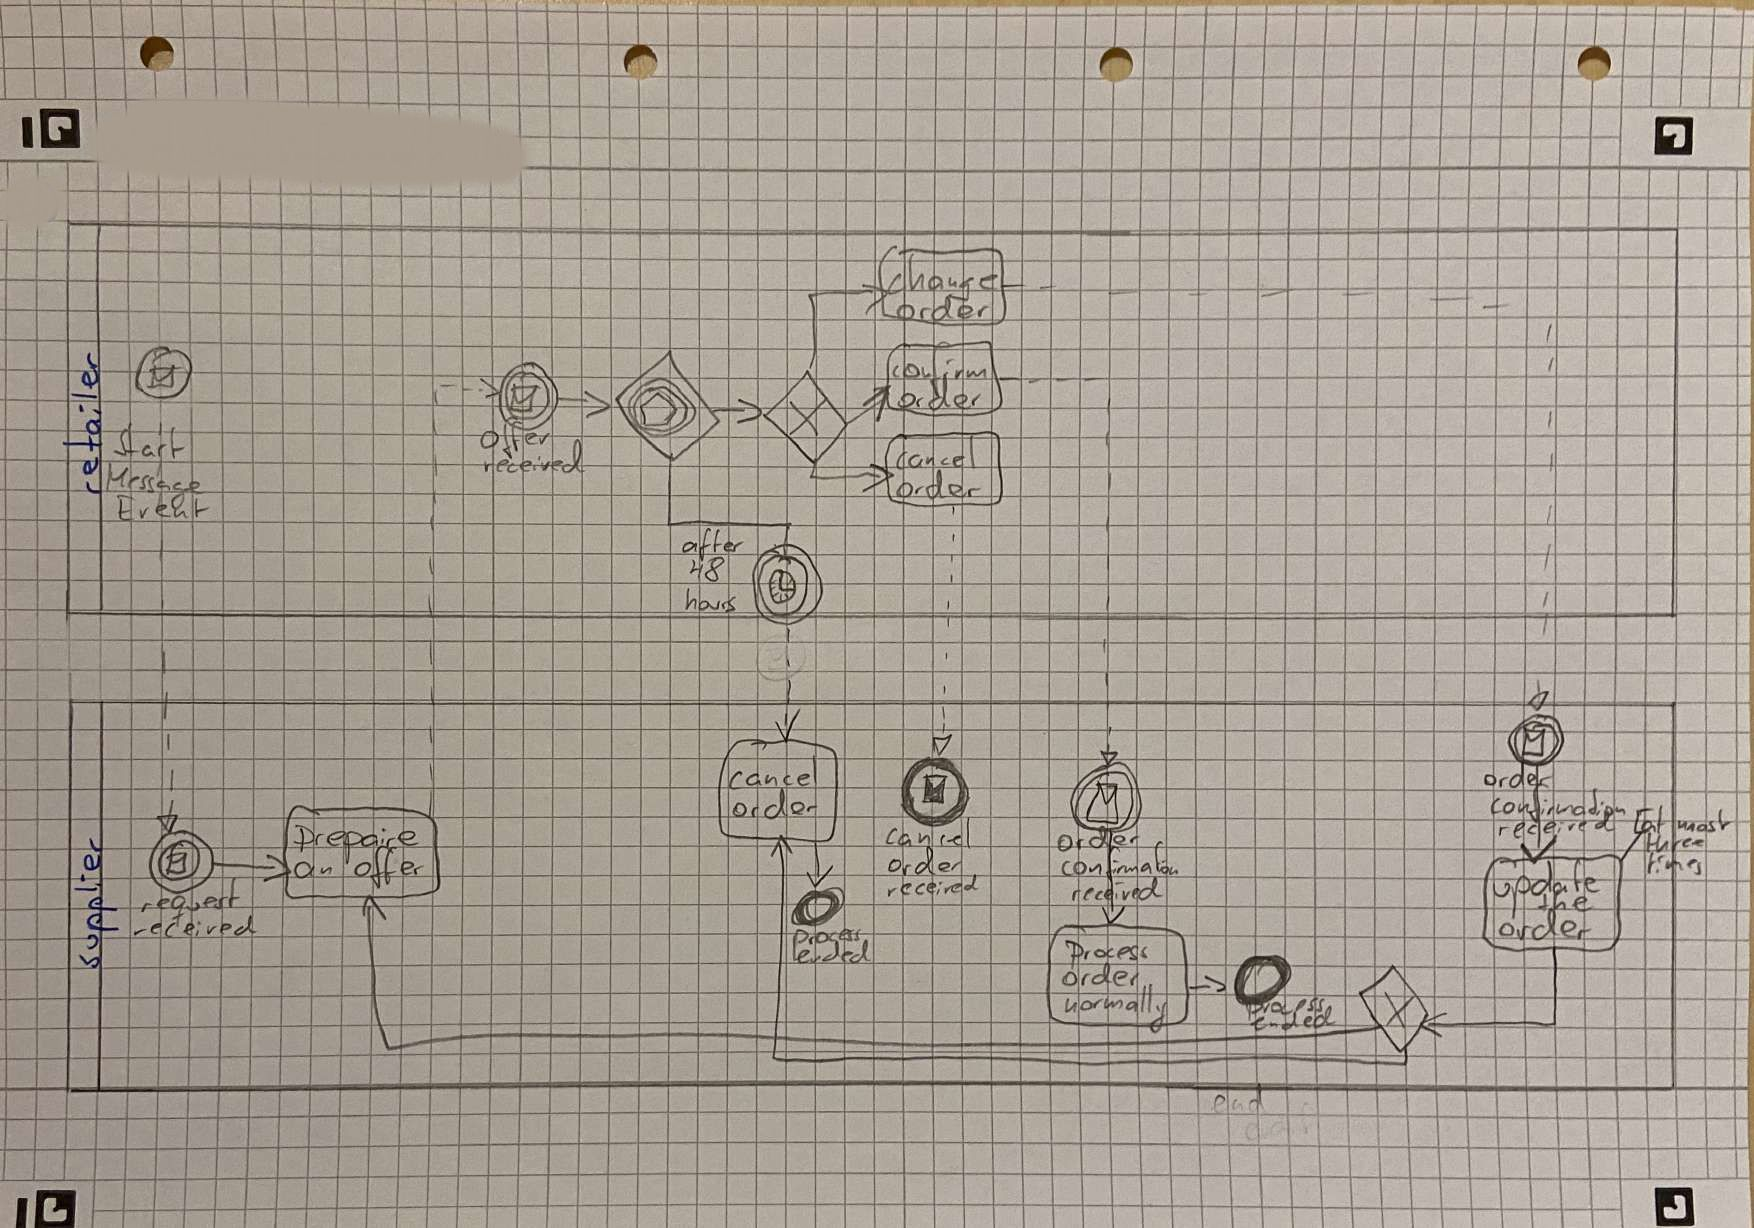48: (685, 548, 726, 583)
Event: (111, 493, 209, 524)
Message: (101, 465, 204, 488)
[at: (1631, 805, 1665, 833)
after: (680, 525, 742, 552)
an: (295, 856, 332, 880)
cancel: (882, 823, 976, 852), (730, 768, 818, 795), (900, 441, 981, 468)
change: (885, 264, 1006, 303)
confirm: (888, 356, 994, 387)
confirmation: (1060, 856, 1181, 879), (1491, 797, 1623, 816)
ended: (785, 936, 876, 968), (1252, 1013, 1335, 1031)
hours: (681, 589, 738, 613)
most: (1679, 811, 1725, 833)
normally: (1064, 988, 1168, 1019)
offer: (351, 849, 429, 885), (481, 429, 554, 456)
order: (1044, 825, 1156, 860), (1049, 961, 1146, 995), (873, 852, 977, 883), (1502, 916, 1587, 944), (730, 796, 818, 821), (896, 477, 986, 501), (900, 389, 984, 413), (900, 300, 989, 321), (1482, 771, 1559, 795)
prepaire: (295, 820, 420, 852)
process: (789, 924, 868, 955), (1072, 939, 1144, 967), (1245, 988, 1327, 1012)
received: (474, 445, 582, 483), (1064, 873, 1170, 911), (132, 913, 255, 943), (1490, 815, 1611, 843), (888, 871, 977, 904)
request: (139, 881, 239, 909)
retailer: (71, 349, 103, 493)
start: (99, 419, 191, 477)
supplier: (71, 841, 109, 969)
the: (1526, 891, 1595, 917)
three: (1642, 835, 1707, 853)
times: (1643, 855, 1707, 877)
update: (1483, 869, 1605, 901)
